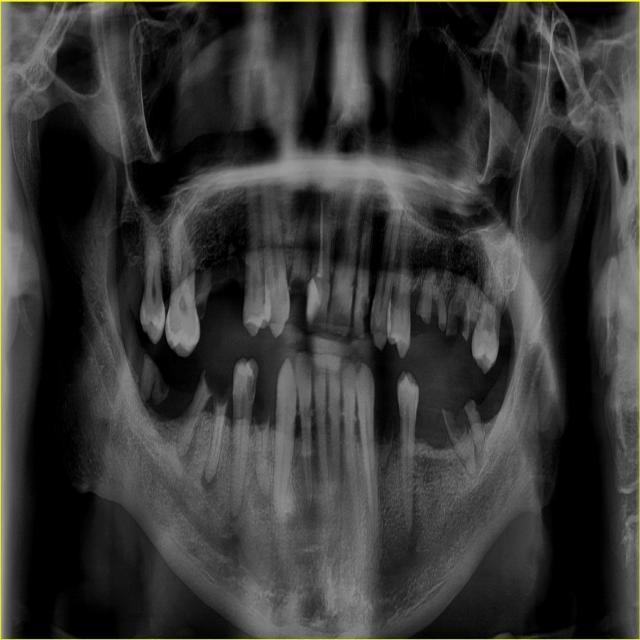72: (443, 406, 479, 473), (445, 267, 477, 339), (188, 263, 220, 319), (138, 354, 173, 404), (463, 399, 490, 453), (414, 266, 439, 324), (253, 414, 270, 494), (376, 428, 396, 470), (432, 283, 450, 329), (153, 386, 172, 405)
74: (316, 184, 328, 278)
Sterngold Implant: (439, 408, 472, 440), (447, 300, 468, 334), (244, 365, 258, 403), (357, 295, 369, 337), (290, 277, 310, 294), (215, 391, 231, 407)
Straumann Implant: (301, 275, 326, 327)
